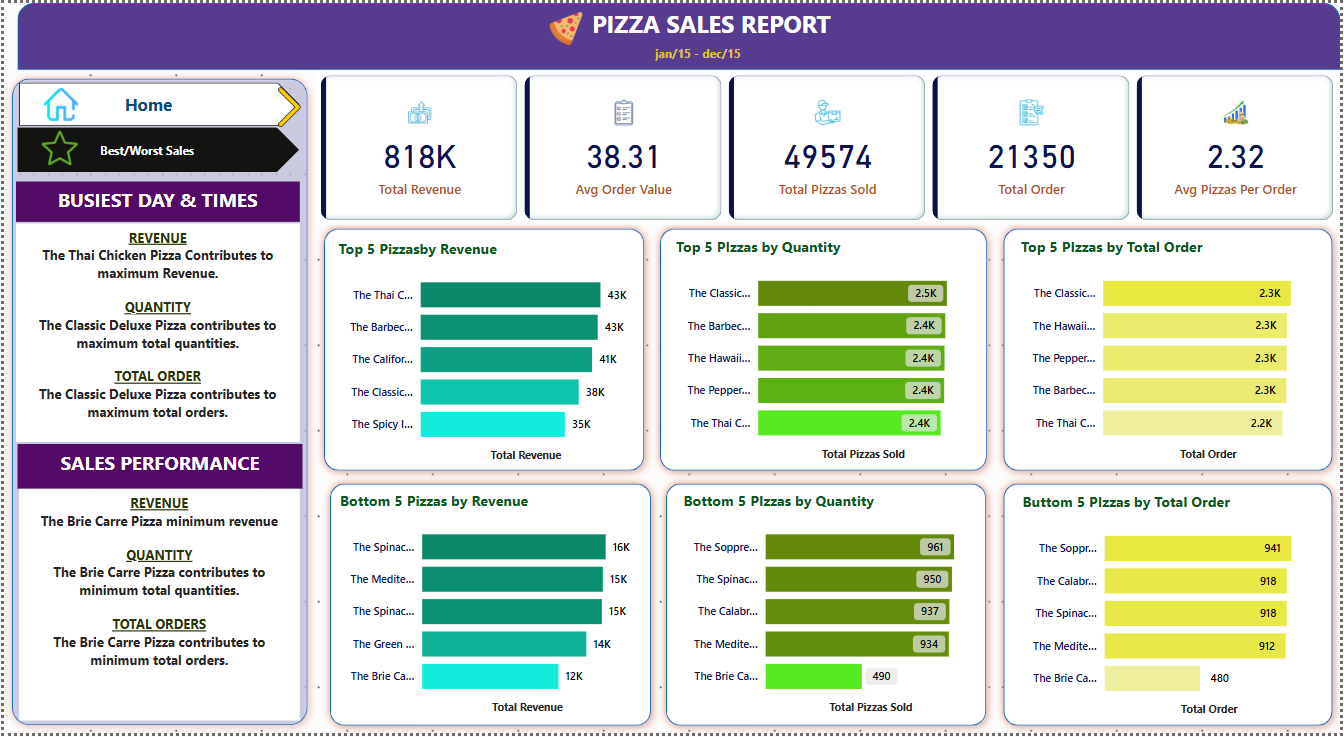

What the dashboard file says about the page in this screenshot:
{"tool":"powerbi","page":{"name":"Best/Worst Sales","canvas":[1500,820],"ordinal":1},"visuals":[{"type":"cardVisual","fields":{"Data":["pizza_sales.Total Revenue","pizza_sales.Avg Order Value","pizza_sales.Total Pizzas Sold","pizza_sales.Total Order","pizza_sales.Avg Pizzas Per Order"]},"box":[350.9,75.5,1148.9,173.6],"z":0},{"type":"shape","box":[15,0,1485,75],"z":1000},{"type":"textbox","box":[654.6,0,292.4,60.4],"z":2000},{"type":"image","box":[606.8,0,48.7,57.6],"z":3000},{"type":"textbox","box":[726.3,41.5,124.5,34],"z":4000},{"type":"shape","box":[350,245,377.5,290],"z":5000},{"type":"shape","box":[0,75.3,349.9,744.1],"z":6000},{"type":"textbox","box":[13.3,200,318.3,45],"z":7000},{"type":"textbox","box":[13.3,248.3,318.3,245],"z":8000},{"type":"textbox","box":[15,495,320,50],"z":9000},{"type":"textbox","box":[16.7,545,315,260],"z":10000},{"type":"shape","box":[727.5,245,385,290],"z":11000},{"type":"shape","box":[1112.5,245,387.5,290],"z":12000},{"type":"shape","box":[356.7,530,378.3,290],"z":13000},{"type":"shape","box":[1112.5,530,387.5,290],"z":14000},{"type":"shape","box":[735,530,377.5,290],"z":15000},{"type":"barChart","title":"Top 5 Pizzasby Revenue","fields":{"Category":["pizza_sales.pizza_name"],"Y":["pizza_sales.Total Revenue"]},"box":[370,264,338,256],"z":16000},{"type":"barChart","title":"Bottom 5 Pizzas by Revenue","fields":{"Category":["pizza_sales.pizza_name"],"Y":["pizza_sales.Total Revenue"]},"box":[372,548,338,256],"z":17000},{"type":"barChart","title":"Top 5 PIzzas by Quantity","fields":{"Category":["pizza_sales.pizza_name"],"Y":["pizza_sales.Total Pizzas Sold"]},"box":[750,262,338,256],"z":18000},{"type":"barChart","title":"Bottom 5 PIzzas by Quantity","fields":{"Category":["pizza_sales.pizza_name"],"Y":["pizza_sales.Total Pizzas Sold"]},"box":[758,548,338,256],"z":19000},{"type":"barChart","title":"Top 5 PIzzas by Total Order","fields":{"Category":["pizza_sales.pizza_name"],"Y":["pizza_sales.Total Order"]},"box":[1136,262,338,256],"z":20000},{"type":"barChart","title":"Buttom 5 PIzzas by Total Order","fields":{"Category":["pizza_sales.pizza_name"],"Y":["pizza_sales.Total Order"]},"box":[1138.3,548.3,336.7,256.7],"z":21000},{"type":"pageNavigator","box":[15.1,139.6,316.9,50.9],"z":22000},{"type":"pageNavigator","box":[17,88.7,315.1,49.1],"z":23000},{"type":"image","box":[290.5,88.7,58.5,54.7],"z":24000},{"type":"image","box":[32.1,88.7,64.1,49.1],"z":25000},{"type":"image","box":[37.7,135.8,50.9,52.8],"z":26000}]}

Visuals, with their boxes in screenshot pixels (x1, y1, x2, y2), scaled from the page's 1500x820 canvas onto the 1344x737 screenshot:
cardVisual - pizza_sales.Total Revenue x pizza_sales.Avg Order Value: <region>314, 68, 1343, 224</region>
shape: <region>13, 0, 1343, 67</region>
textbox: <region>587, 0, 849, 54</region>
image: <region>544, 0, 587, 52</region>
textbox: <region>651, 37, 762, 68</region>
shape: <region>314, 220, 652, 481</region>
shape: <region>0, 68, 314, 736</region>
textbox: <region>12, 180, 297, 220</region>
textbox: <region>12, 223, 297, 443</region>
textbox: <region>13, 445, 300, 490</region>
textbox: <region>15, 490, 297, 724</region>
shape: <region>652, 220, 997, 481</region>
shape: <region>997, 220, 1343, 481</region>
shape: <region>320, 476, 659, 736</region>
shape: <region>997, 476, 1343, 736</region>
shape: <region>659, 476, 997, 736</region>
"Top 5 Pizzasby Revenue" barChart: <region>332, 237, 634, 467</region>
"Bottom 5 Pizzas by Revenue" barChart: <region>333, 493, 636, 723</region>
"Top 5 PIzzas by Quantity" barChart: <region>672, 235, 975, 466</region>
"Bottom 5 PIzzas by Quantity" barChart: <region>679, 493, 982, 723</region>
"Top 5 PIzzas by Total Order" barChart: <region>1018, 235, 1321, 466</region>
"Buttom 5 PIzzas by Total Order" barChart: <region>1020, 493, 1322, 724</region>
pageNavigator: <region>14, 125, 297, 171</region>
pageNavigator: <region>15, 80, 298, 124</region>
image: <region>260, 80, 313, 129</region>
image: <region>29, 80, 86, 124</region>
image: <region>34, 122, 79, 170</region>
